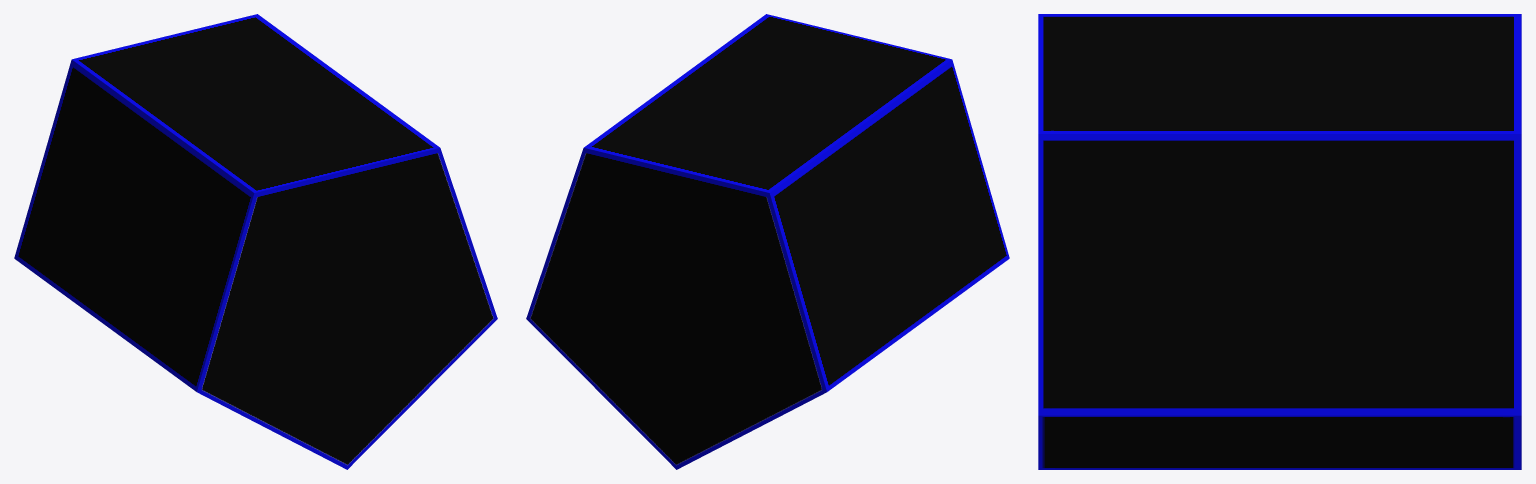
Rendered from pent_blue_good_transform.fbx.
3 views of the same model, side by side, from view 1: azimuth 30°, elevation 25°; view 2: azimuth 150°, elevation 25°; view 3: azimuth 270°, elevation 25° (orthographic). The views are drawn at different scales.
Parts seen in each view (by area): view 1: Cylinder; view 2: Cylinder; view 3: Cylinder.
Boxes of the visible parts, x1,y1,x2,y2 form: Cylinder: (14, 14, 497, 469); Cylinder: (526, 14, 1009, 469); Cylinder: (1038, 14, 1521, 469).
Size of the model in its own units: 1.9 by 1.81 by 2.
